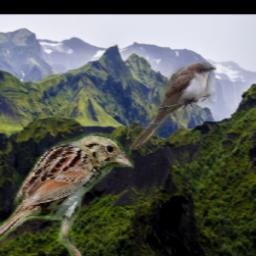Cuckoo: (129, 62, 216, 150)
Sparrow: (0, 132, 133, 256)
